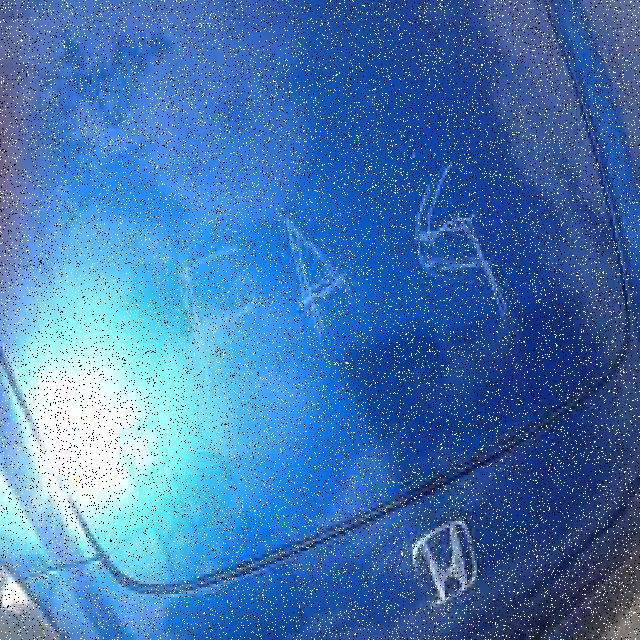bonnet-dent: (0, 125, 638, 637)
